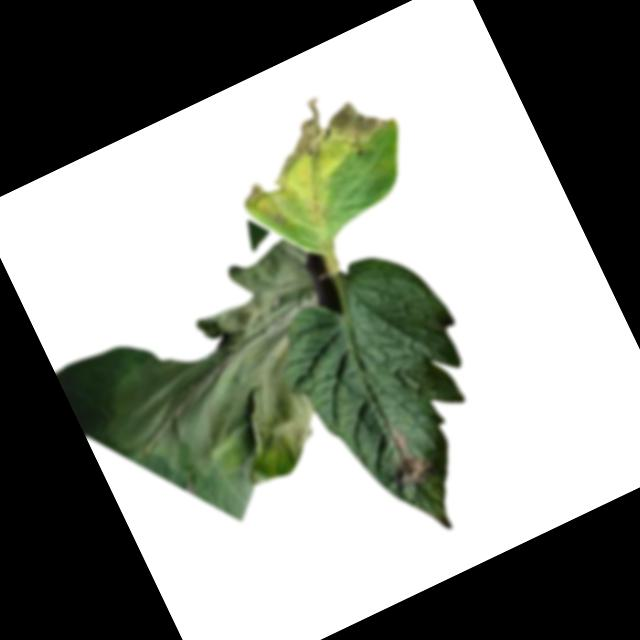Late_blight: (63, 241, 378, 531), (223, 72, 416, 248), (374, 421, 436, 497)
